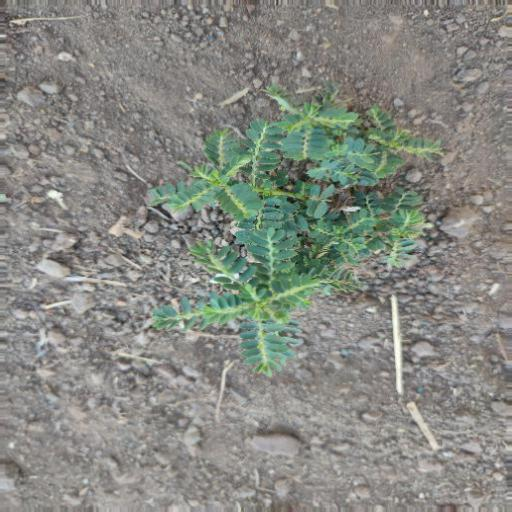weed: (147, 112, 436, 347)
